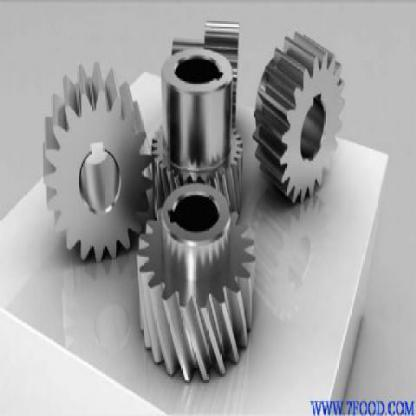FOD: (134, 180, 259, 387), (42, 60, 152, 275), (148, 44, 244, 229), (253, 26, 347, 208)
